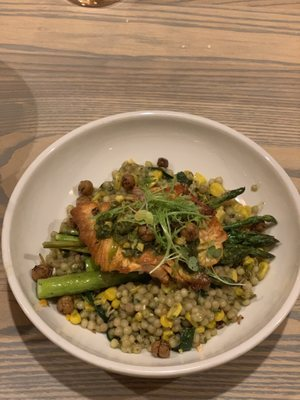curry: (221, 231, 280, 267)
sushi: (2, 110, 298, 393)
